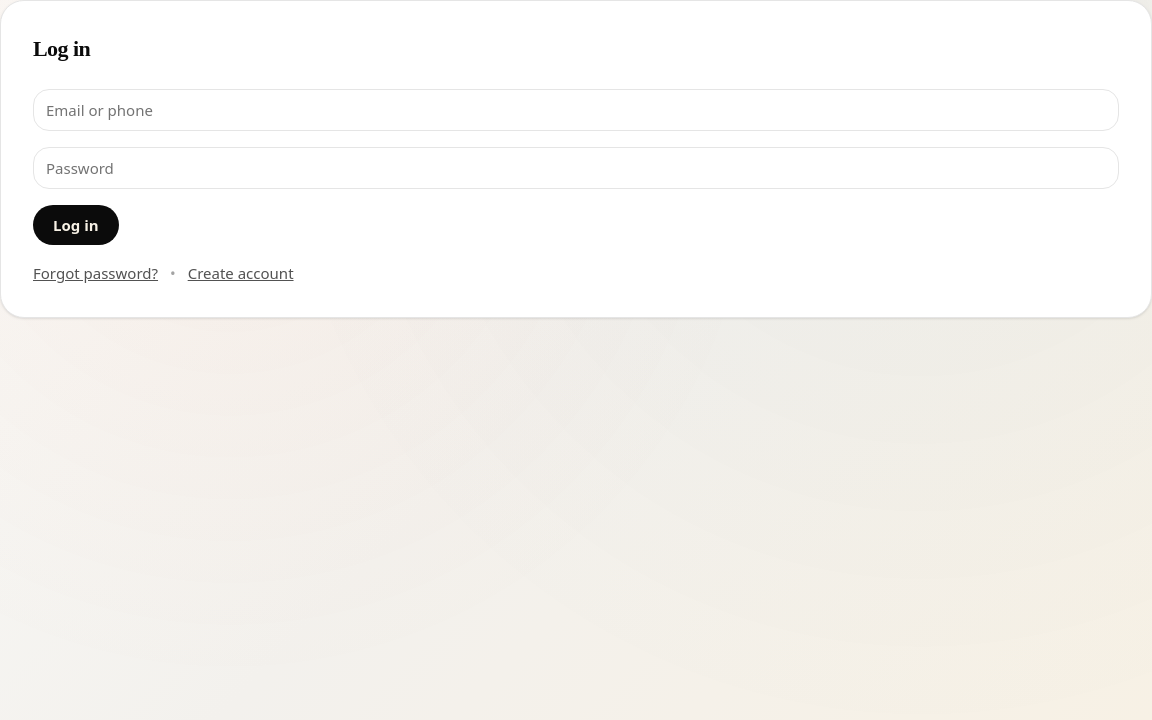
Test: LoginClient › defaults to /explore and shows an error on bad credentials
Step 1. Type "a@b.com" into the field with placeholder "Email or phone" → x=576, y=110, box left=33, top=89, right=1119, bottom=131
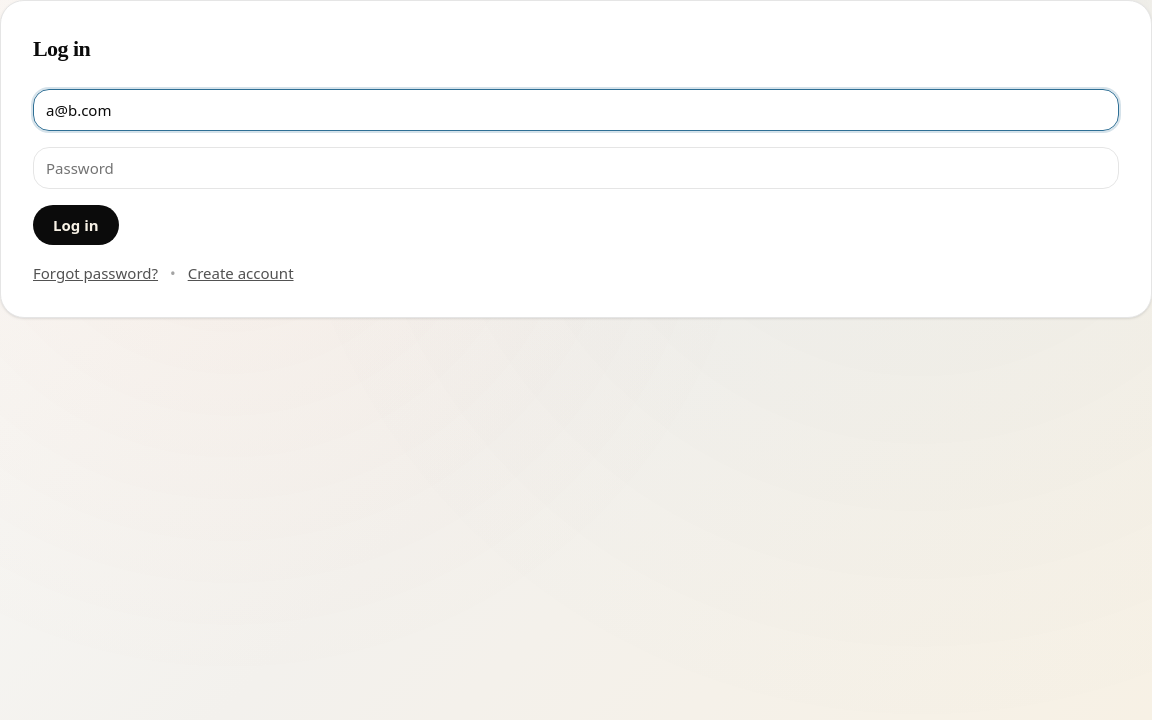
Step 2. Type "wrong" into the password field with placeholder "Password" → x=576, y=168, box left=33, top=147, right=1119, bottom=189
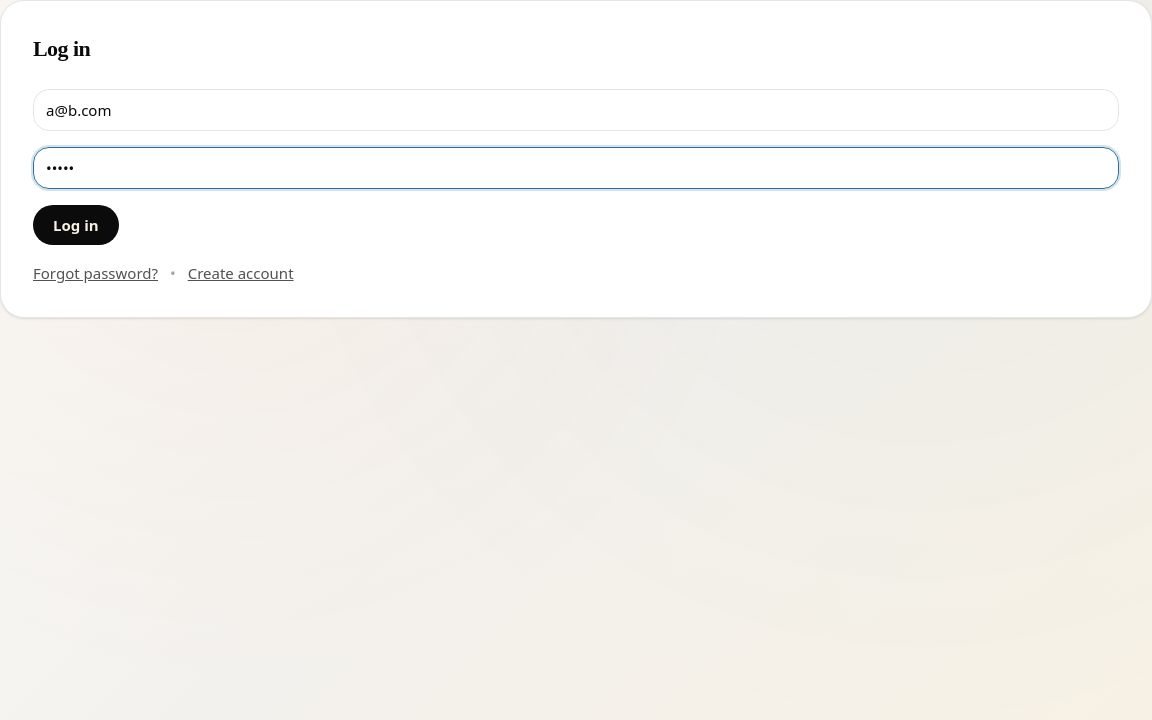
Step 3. Click the button "Log in" → x=76, y=225, box left=33, top=205, right=119, bottom=245
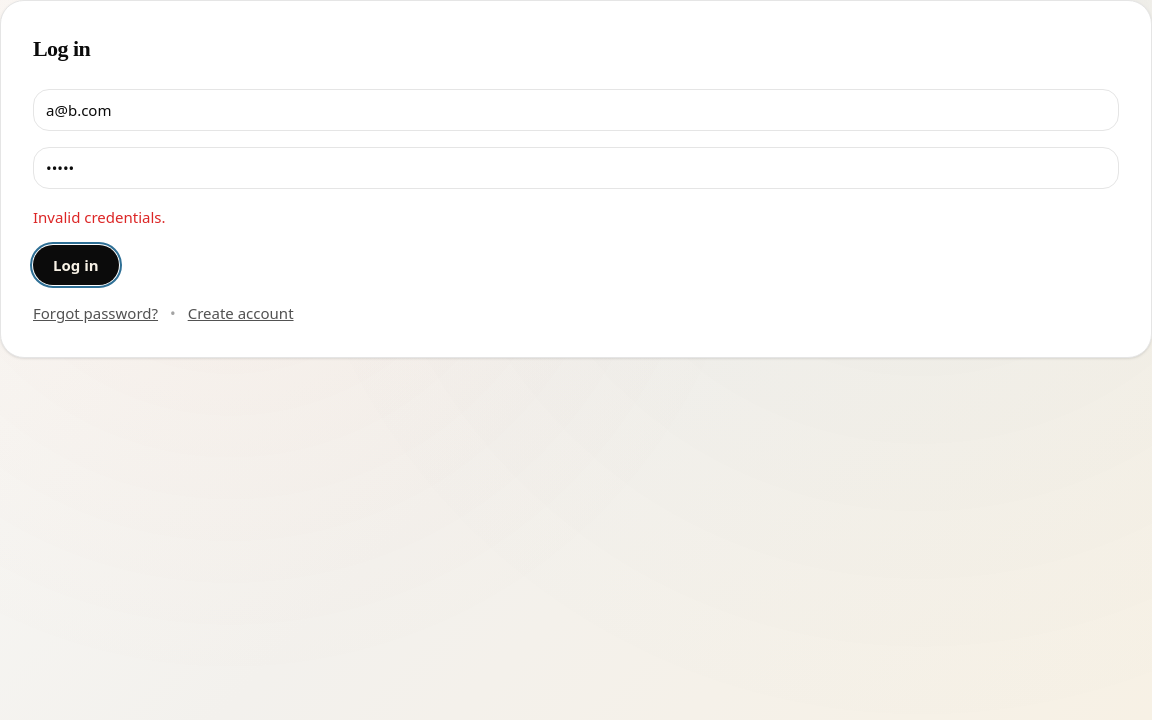
Expected: the text "Invalid credentials." is shown, left=33, top=207, right=166, bottom=227
